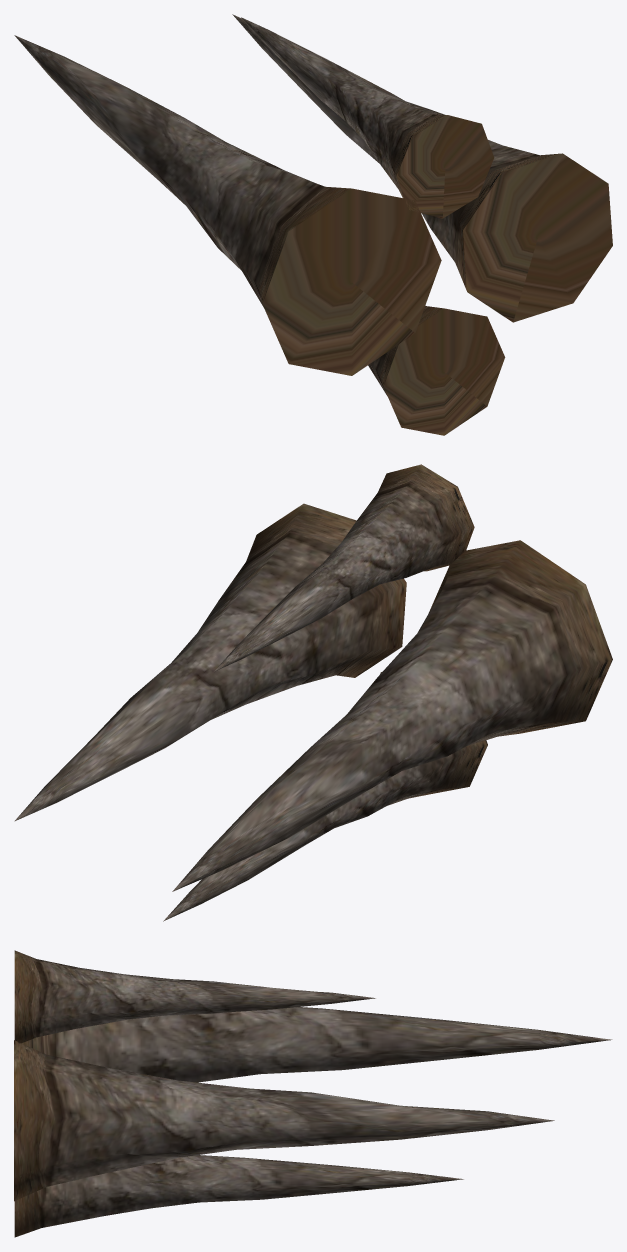
Rendered from indan_3.FBX.
3 renders of one model, top to bottom at view 1: azimuth 30°, elevation 25°; view 2: azimuth 150°, elevation 25°; view 3: azimuth 270°, elevation 25°, orthographic. The views are drawn at different scales.
Visible parts, largest first — view 1: Box003; view 2: Box003; view 3: Box003.
Boxes of the visible parts, x1,y1,x2,y2 form: Box003: (14, 14, 612, 435); Box003: (14, 464, 612, 921); Box003: (14, 950, 612, 1237).
Size of the model in its own units: 0.0608 by 0.053 by 0.1017.
